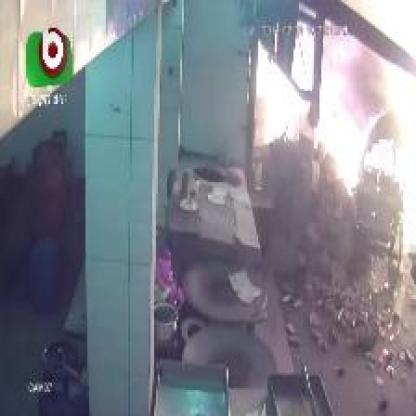fire: (256, 43, 368, 214), (362, 2, 416, 254)
